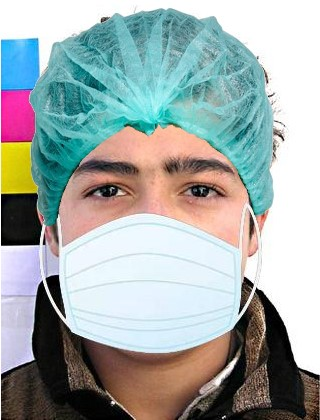with_mask_and_cap: (31, 7, 274, 354)
